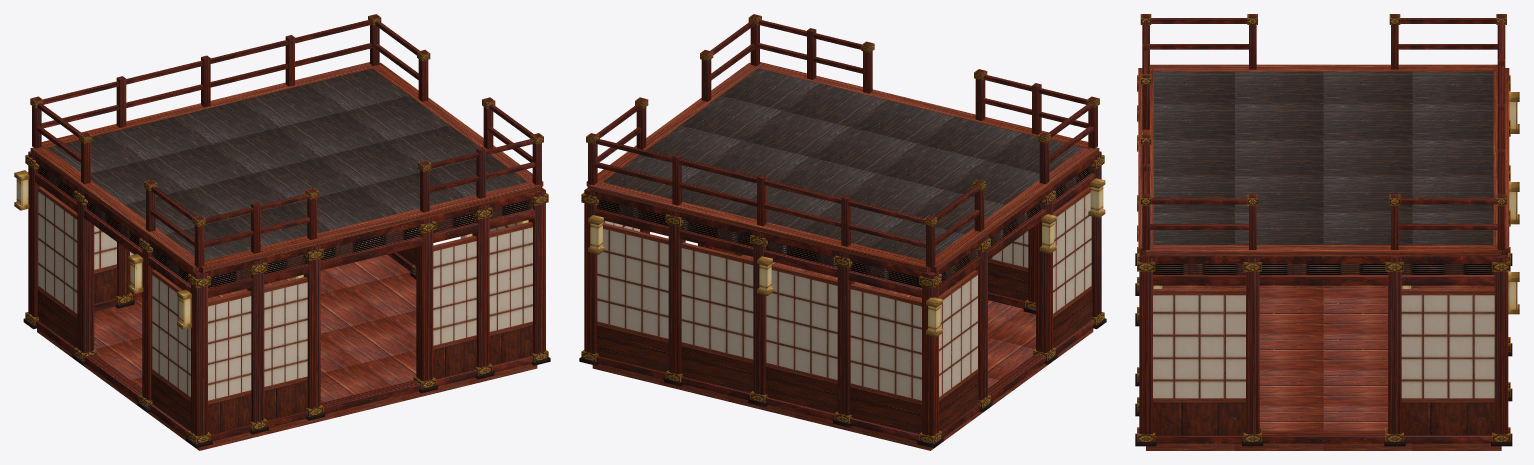
The model's file is CorrectedRoom.fbx.
The picture shows the model from 3 angles, left to right: view 1: azimuth 30°, elevation 25°; view 2: azimuth 150°, elevation 25°; view 3: azimuth 270°, elevation 25°; orthographic projection. The views are drawn at different scales.
Visible parts, largest first — view 1: Retopo_CorrectedRoom.001; view 2: Retopo_CorrectedRoom.001; view 3: Retopo_CorrectedRoom.001.
Part boxes in pixels (x1,y1,x2,y2): Retopo_CorrectedRoom.001: (14,14,550,450); Retopo_CorrectedRoom.001: (579,14,1106,450); Retopo_CorrectedRoom.001: (1135,14,1519,450).
Bounding box in the file's own units: 768 × 475 × 648.
